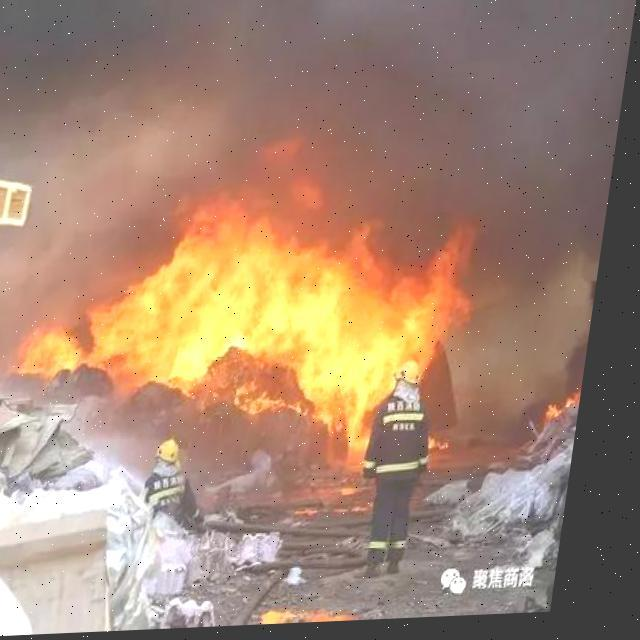Fire: (15, 157, 492, 474)
